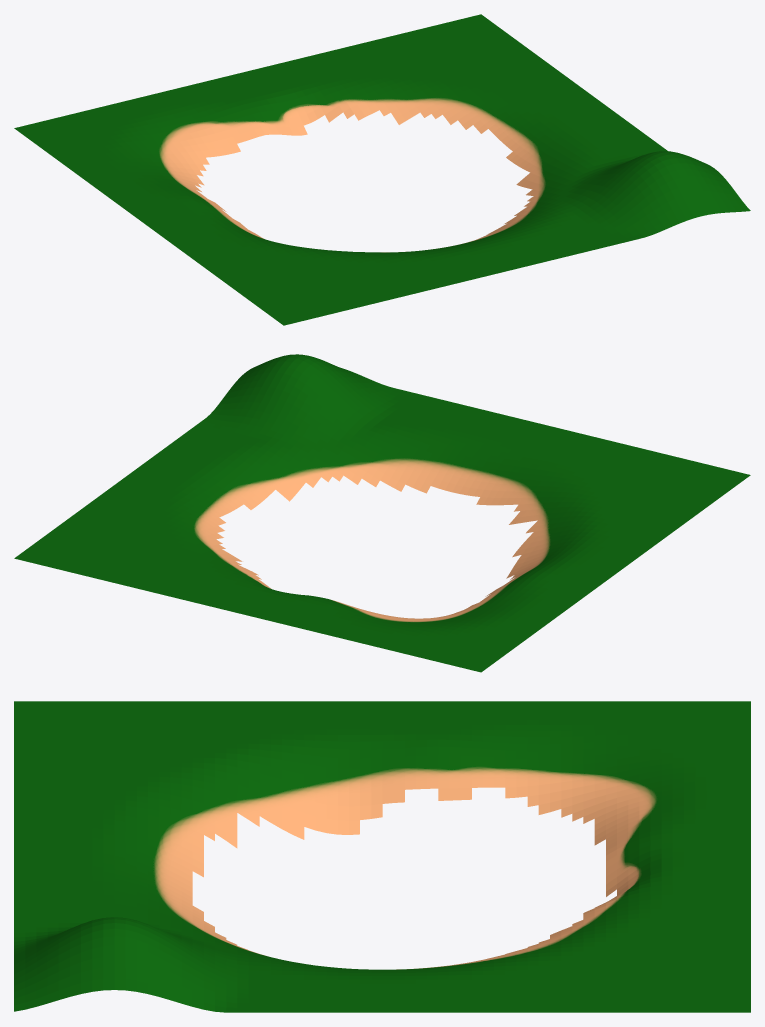
3 renders of one model, top to bottom at view 1: azimuth 30°, elevation 25°; view 2: azimuth 150°, elevation 25°; view 3: azimuth 270°, elevation 25°, orthographic. The views are drawn at different scales.
Parts seen in each view (by area): view 1: 平面.001; view 2: 平面.001; view 3: 平面.001.
Boxes of the visible parts, left/top/right/bottom form: 平面.001: left=14, top=14, right=750, bottom=325; 平面.001: left=14, top=354, right=750, bottom=672; 平面.001: left=14, top=701, right=750, bottom=1012.
Bounding box in the file's own units: 200 × 33.29 × 200.
1 material, 1 textured.
